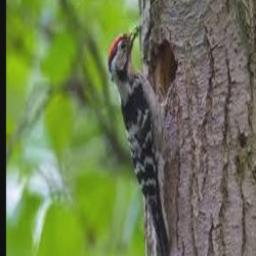Woodpecker: (109, 24, 177, 256)
